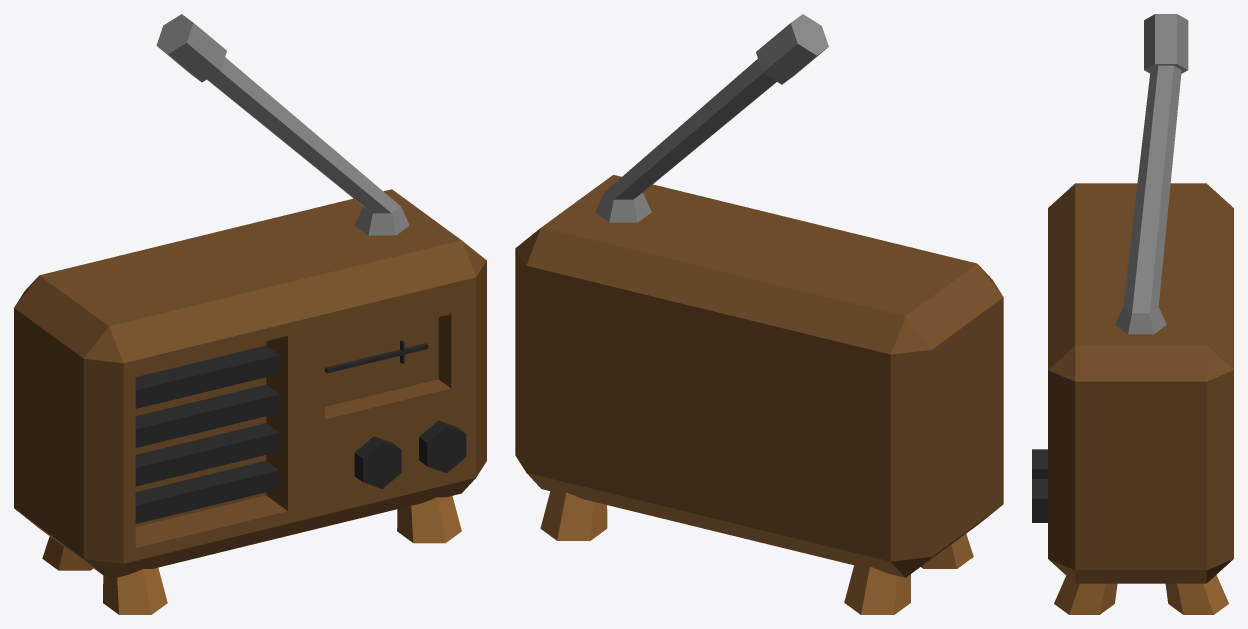
File: radio.glb
3 renders of one model, left to right at view 1: azimuth 30°, elevation 25°; view 2: azimuth 150°, elevation 25°; view 3: azimuth 270°, elevation 25°, orthographic. The views are drawn at different scales.
Visible parts, largest first — view 1: Cube; view 2: Cube; view 3: Cube.
Part boxes in pixels (x1,y1,x2,y2): Cube: [14, 14, 486, 614]; Cube: [515, 14, 1003, 614]; Cube: [1032, 14, 1233, 614].
Size of the model in its own units: 0.5 by 0.6279 by 0.2304.
